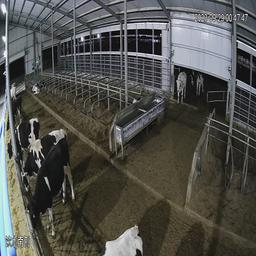cow: (26, 140, 78, 243), (20, 128, 68, 165), (101, 219, 146, 255), (5, 113, 44, 142), (6, 94, 24, 122), (173, 71, 186, 109), (190, 68, 201, 99), (3, 79, 21, 97), (30, 76, 45, 94)
